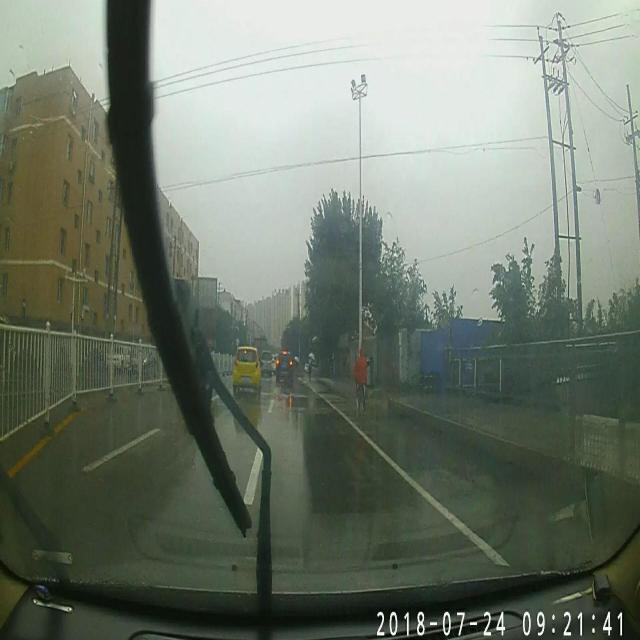car: (232, 344, 260, 396), (273, 352, 295, 386)
